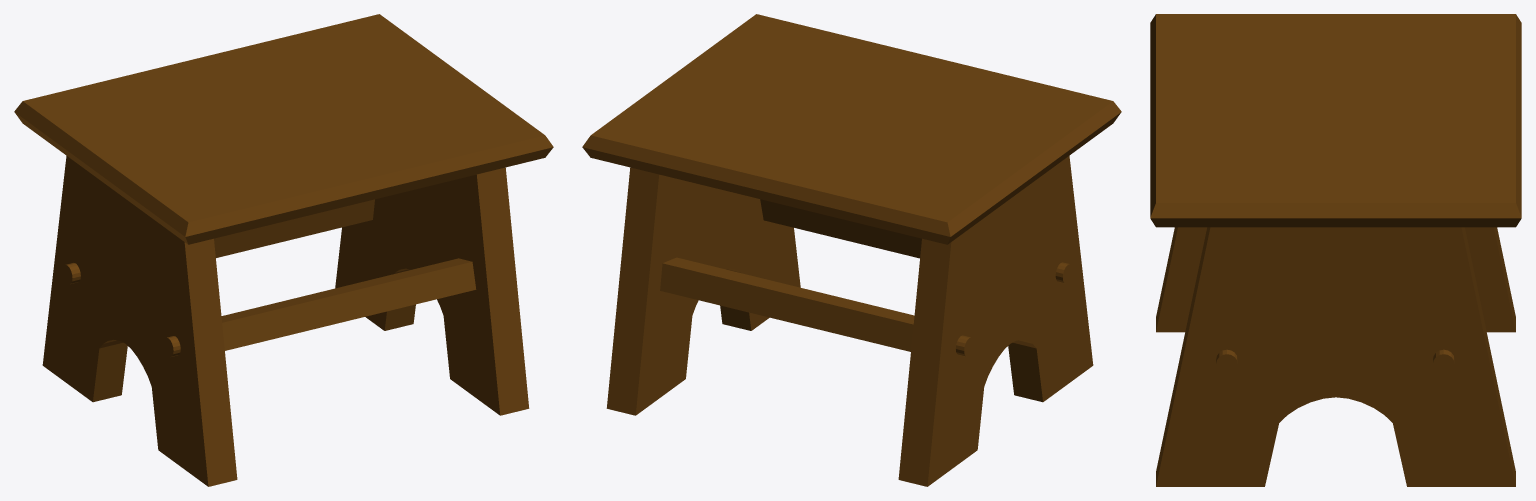
File: SmallStool.fbx
The picture shows the model from 3 angles, left to right: view 1: azimuth 30°, elevation 25°; view 2: azimuth 150°, elevation 25°; view 3: azimuth 270°, elevation 25°; orthographic projection. The views are drawn at different scales.
Visible parts, largest first — view 1: Cube.001, Cube.002, Cube, Cube.003, Cube.004; view 2: Cube.001, Cube.002, Cube, Cube.004, Cube.003; view 3: Cube.001, Cube, Cube.002, Cylinder.001, Cylinder.
Boxes of the visible parts, x1=… form: Cube.001: x1=14, y1=14, x2=553, y2=244; Cube.002: x1=42, y1=156, x2=237, y2=486; Cube: x1=335, y1=167, x2=529, y2=415; Cube.003: x1=221, y1=258, x2=476, y2=350; Cube.004: x1=214, y1=199, x2=374, y2=257; Cube.001: x1=582, y1=14, x2=1121, y2=244; Cube.002: x1=898, y1=156, x2=1093, y2=486; Cube: x1=606, y1=167, x2=800, y2=415; Cube.004: x1=660, y1=257, x2=914, y2=351; Cube.003: x1=760, y1=199, x2=921, y2=258; Cube.001: x1=1150, y1=14, x2=1521, y2=227; Cube: x1=1156, y1=227, x2=1515, y2=486; Cube.002: x1=1156, y1=227, x2=1515, y2=332; Cylinder.001: x1=1433, y1=349, x2=1454, y2=373; Cylinder: x1=1216, y1=349, x2=1237, y2=373.
Bounding box in the file's own units: 257 × 179 × 207.
